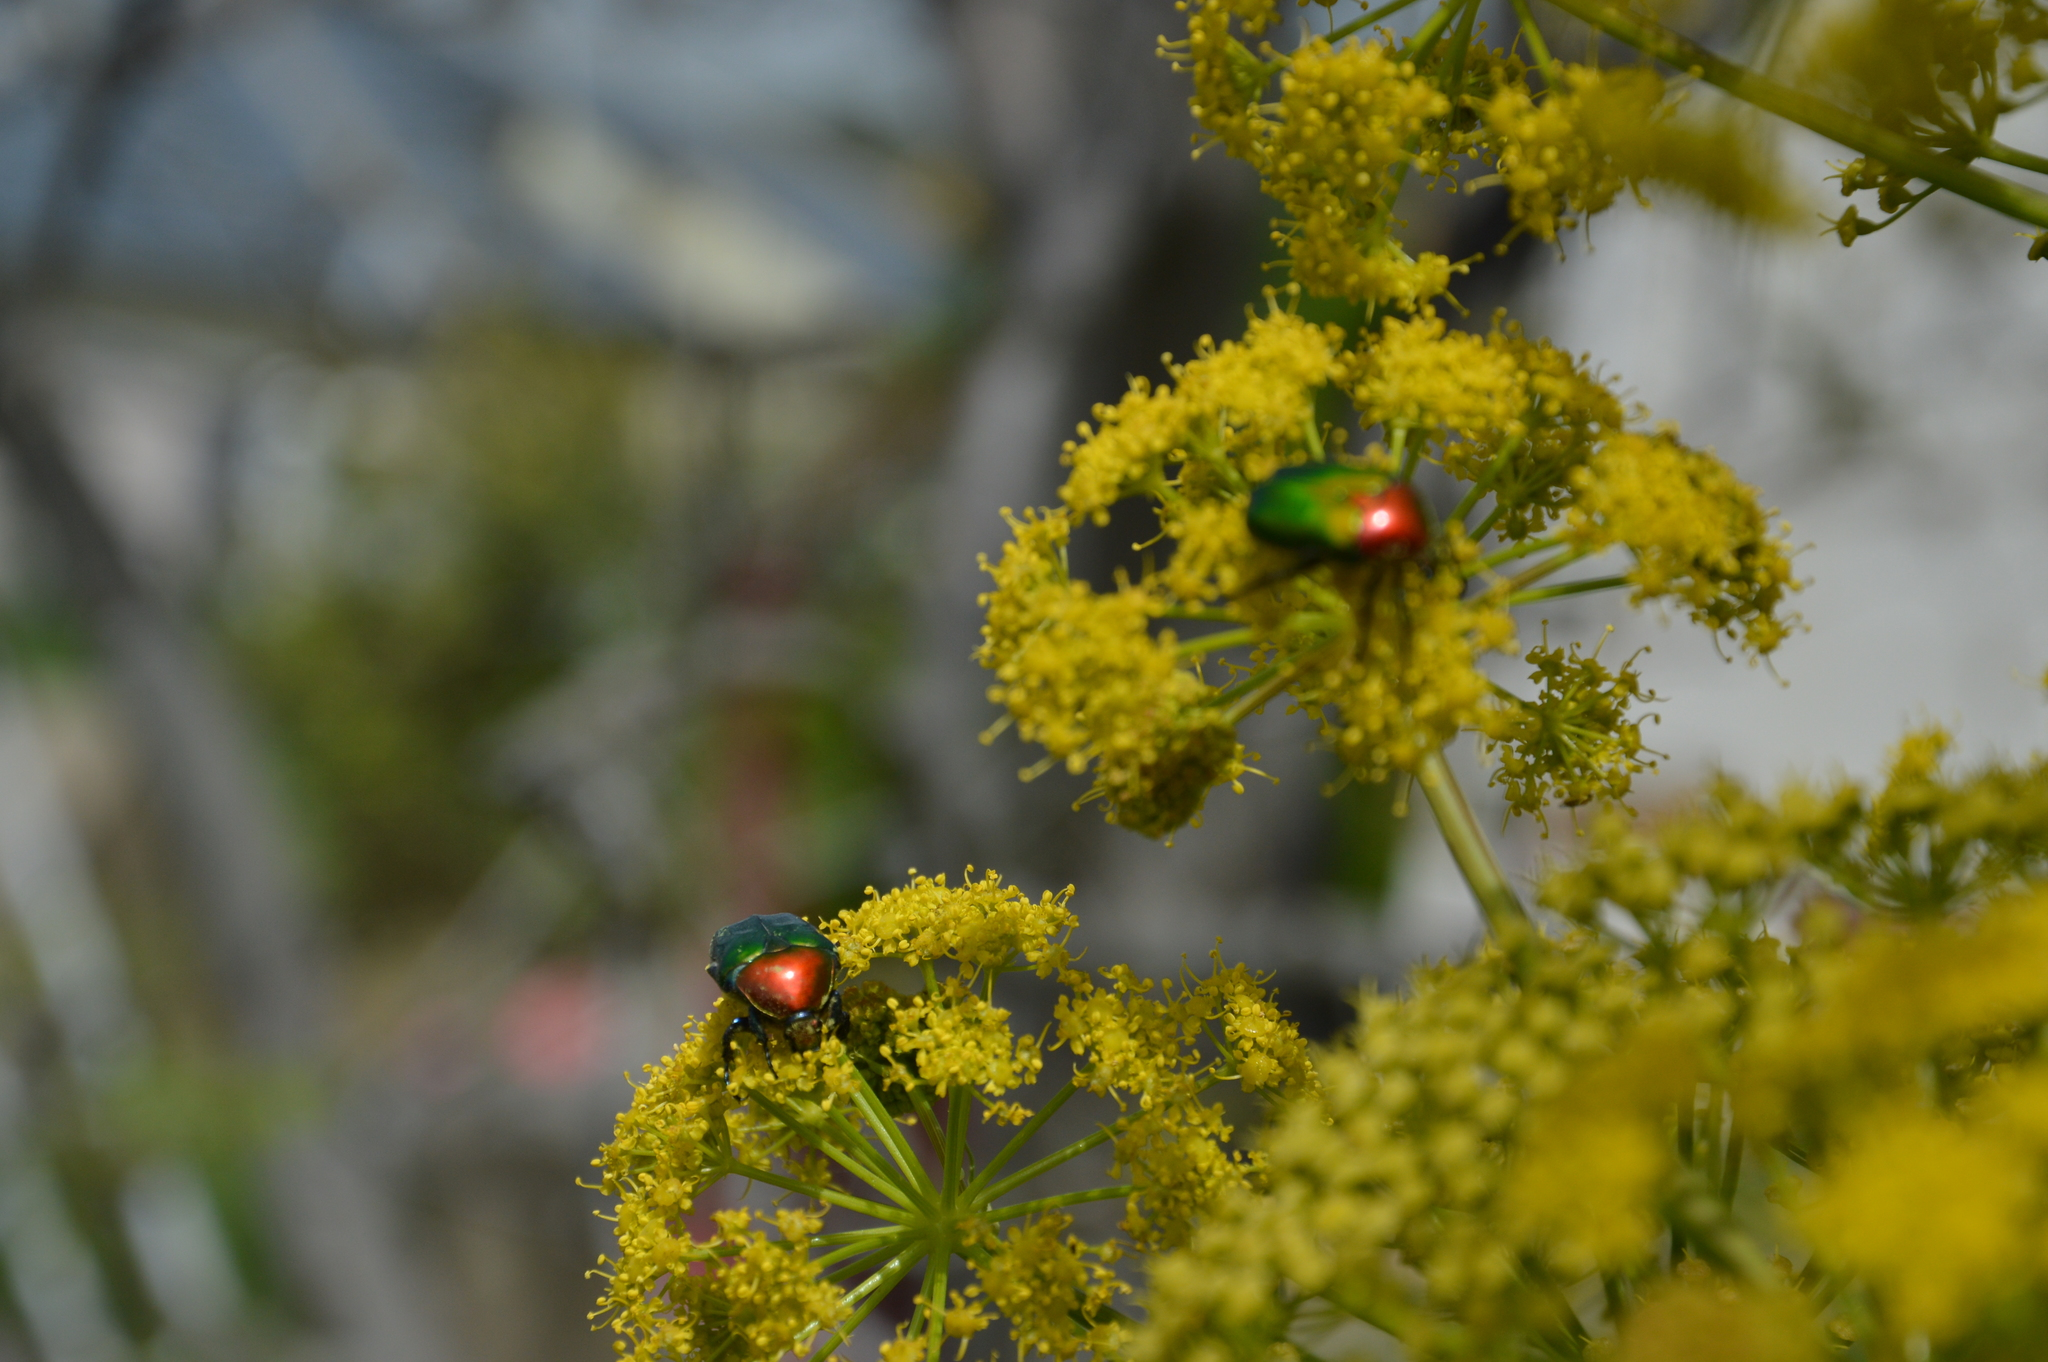Protaetia_cuprea_ignicollis: (1232, 436, 1468, 689), (693, 885, 861, 1064)
